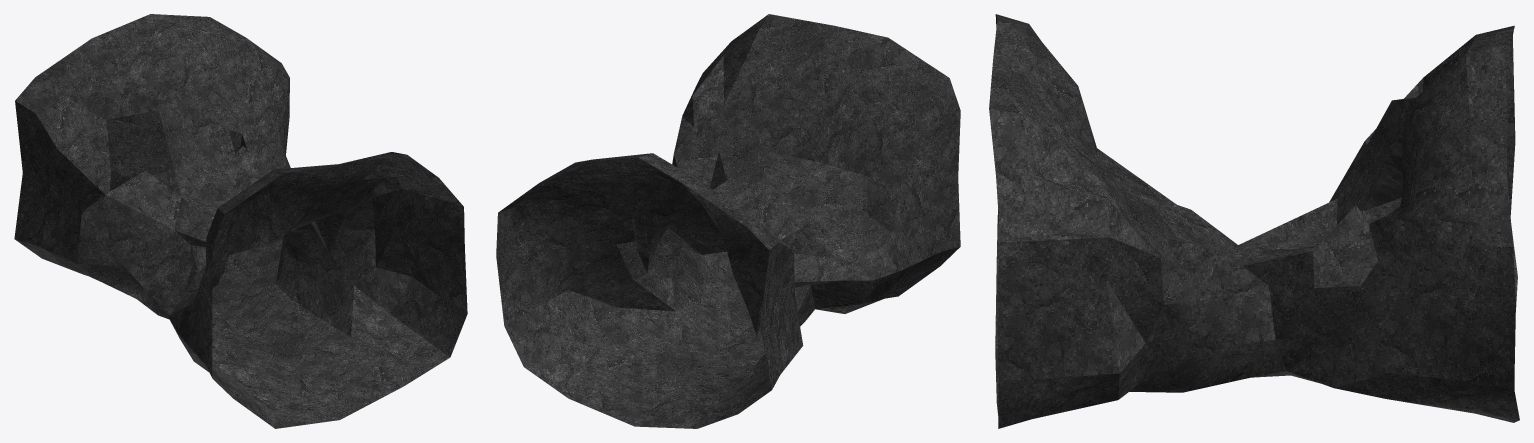
File: CaveCrawlspacetransition3.glb
The picture shows the model from 3 angles, left to right: view 1: azimuth 30°, elevation 25°; view 2: azimuth 150°, elevation 25°; view 3: azimuth 270°, elevation 25°; orthographic projection. The views are drawn at different scales.
Parts seen in each view (by area): view 1: Cube.133; view 2: Cube.133; view 3: Cube.133.
Part boxes in pixels (x1=…): Cube.133: x1=14, y1=14, x2=467, y2=428; Cube.133: x1=496, y1=14, x2=960, y2=428; Cube.133: x1=989, y1=14, x2=1519, y2=428.
Size of the model in its own units: 7.5 by 7.11 by 9.57.
1 material, 1 textured.
